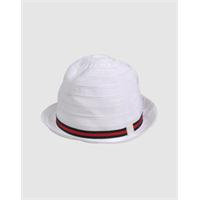hat: (42, 54, 157, 144)
